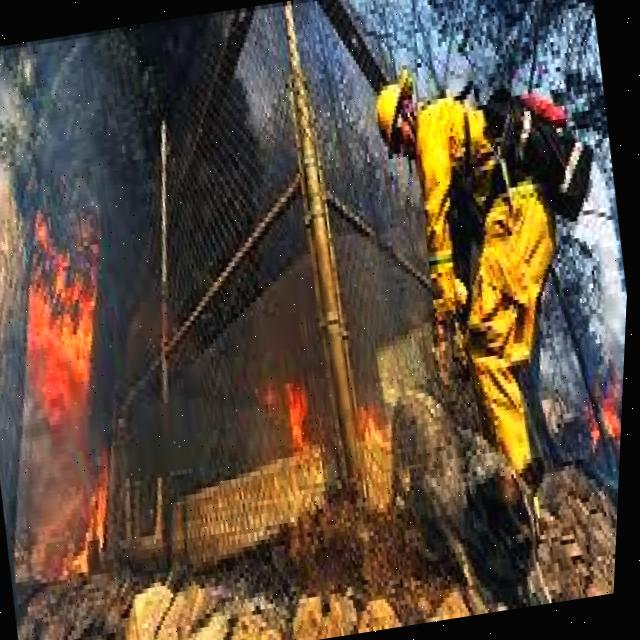smoke: (0, 20, 228, 611), (515, 0, 630, 461)
